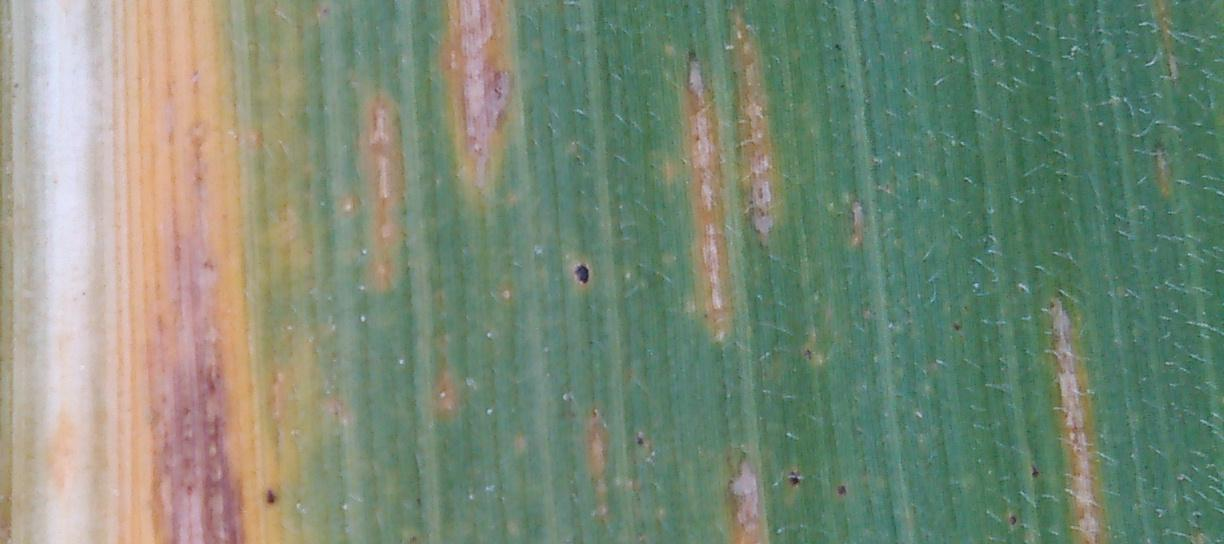tarspot: (571, 260, 593, 285), (259, 484, 279, 509), (830, 482, 852, 498), (785, 466, 804, 484), (1027, 460, 1042, 482), (1006, 510, 1021, 530), (800, 345, 816, 362), (631, 432, 648, 448), (829, 38, 844, 53), (949, 319, 964, 332)
